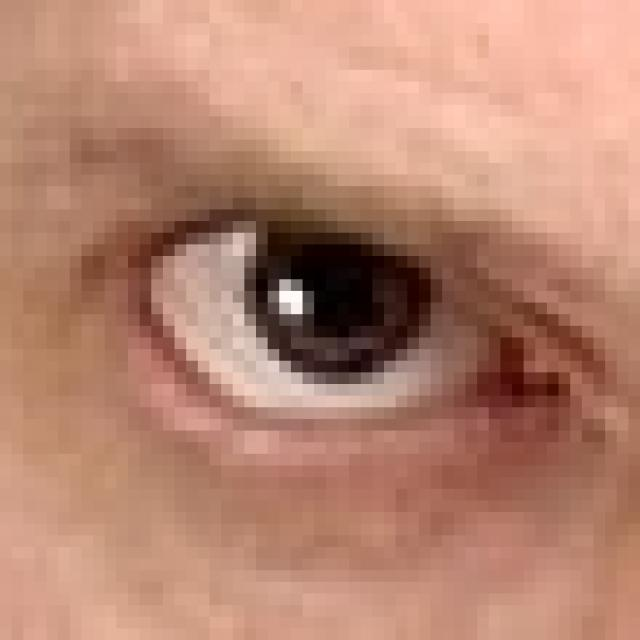eye: (3, 111, 633, 534)
gaze: (242, 198, 450, 386)
